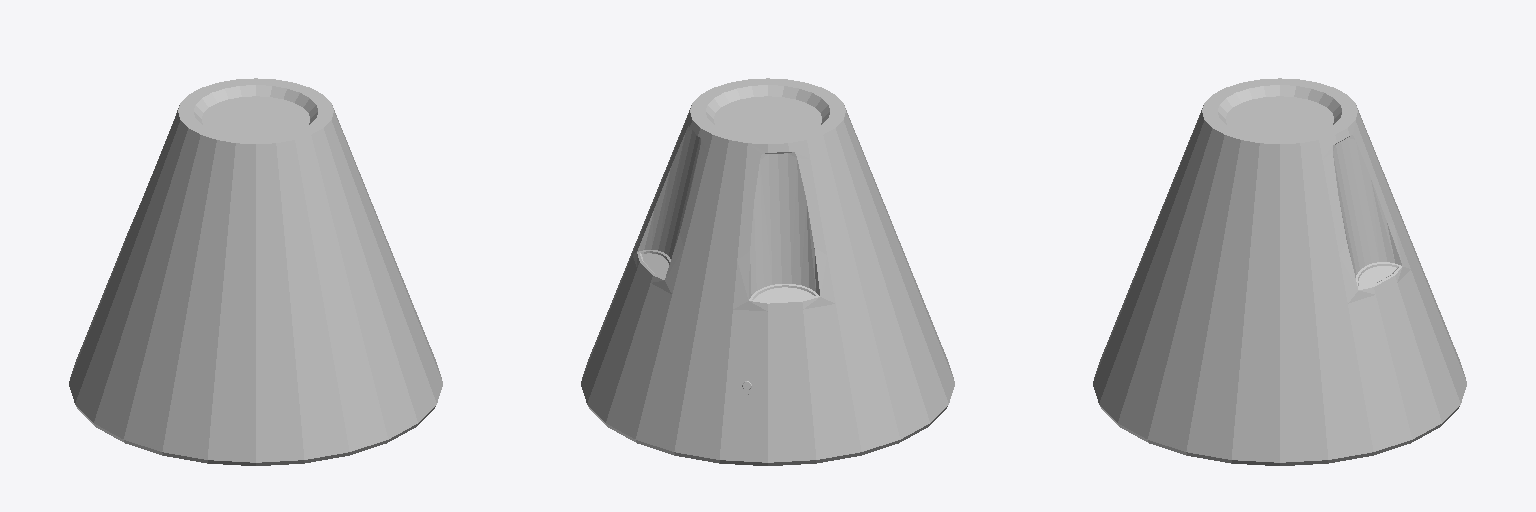
File: Gemini_Crew_A(1).obj
3 renders of one model, left to right at view 1: azimuth 30°, elevation 25°; view 2: azimuth 150°, elevation 25°; view 3: azimuth 270°, elevation 25°, orthographic.
Visible parts, largest first — view 1: Gemini_Crew_A; view 2: Gemini_Crew_A, Gemini_Crew_A_Windows; view 3: Gemini_Crew_A.
Part boxes in pixels (x1,y1,x2,y2): Gemini_Crew_A: (69, 78, 442, 465); Gemini_Crew_A: (581, 78, 954, 465); Gemini_Crew_A_Windows: (642, 253, 813, 301); Gemini_Crew_A: (1093, 78, 1466, 465).
Bounding box in the file's own units: 1.5 × 1.28 × 1.5.